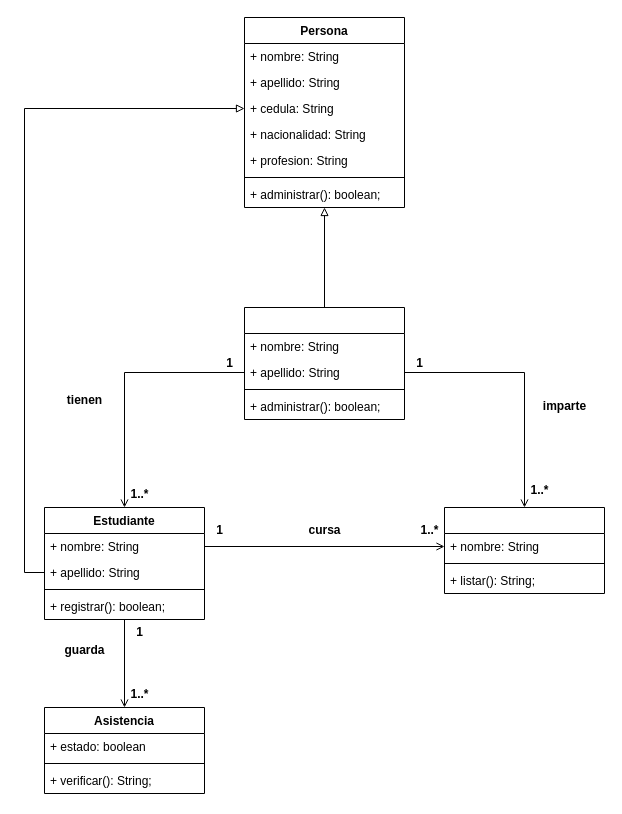
The diagram is 622 pixels wide and 814 high, and some of its shapes have lost their labels. Here are the shapes that lost their labels. From the top down, the box of each, then its label:
(244, 306, 404, 420): Docente
(444, 506, 604, 594): Asignatura
